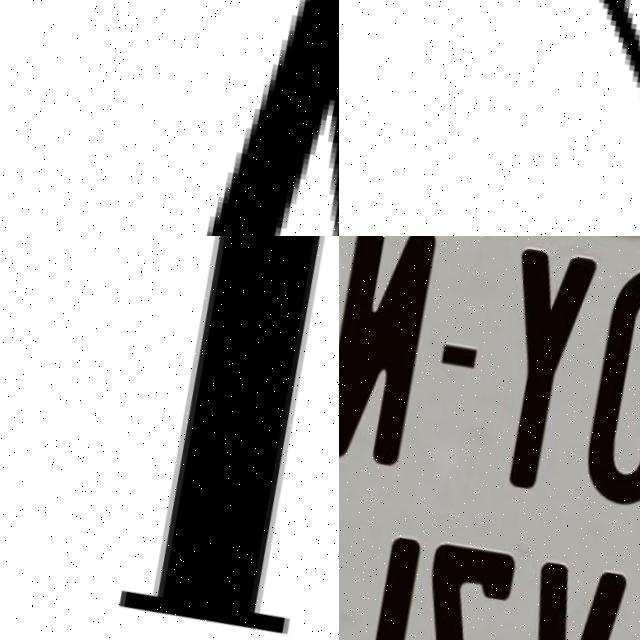0: (571, 261, 640, 523)
7: (379, 538, 523, 640)
A: (73, 0, 339, 236)
I: (92, 236, 339, 640)
K: (438, 0, 640, 236)
L: (339, 521, 428, 640)
N: (339, 236, 448, 468)
V: (489, 560, 633, 640)
Y: (466, 243, 605, 504)
